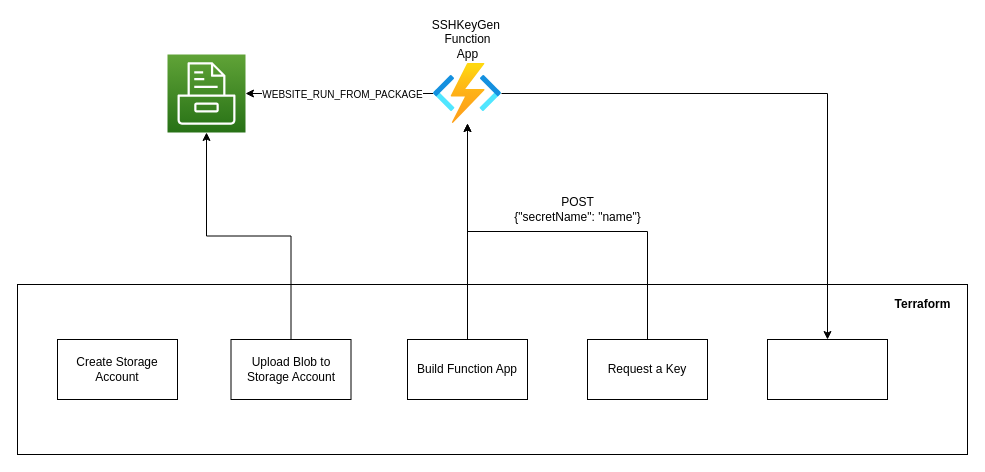
This 985x472 diagram has some shape labels left out. Here are the shapes that lost their labels. From the top down, the centre of each, then its label:
At (206,93): "Storage Account".
At (827,369): "Data object with secret URLs".
